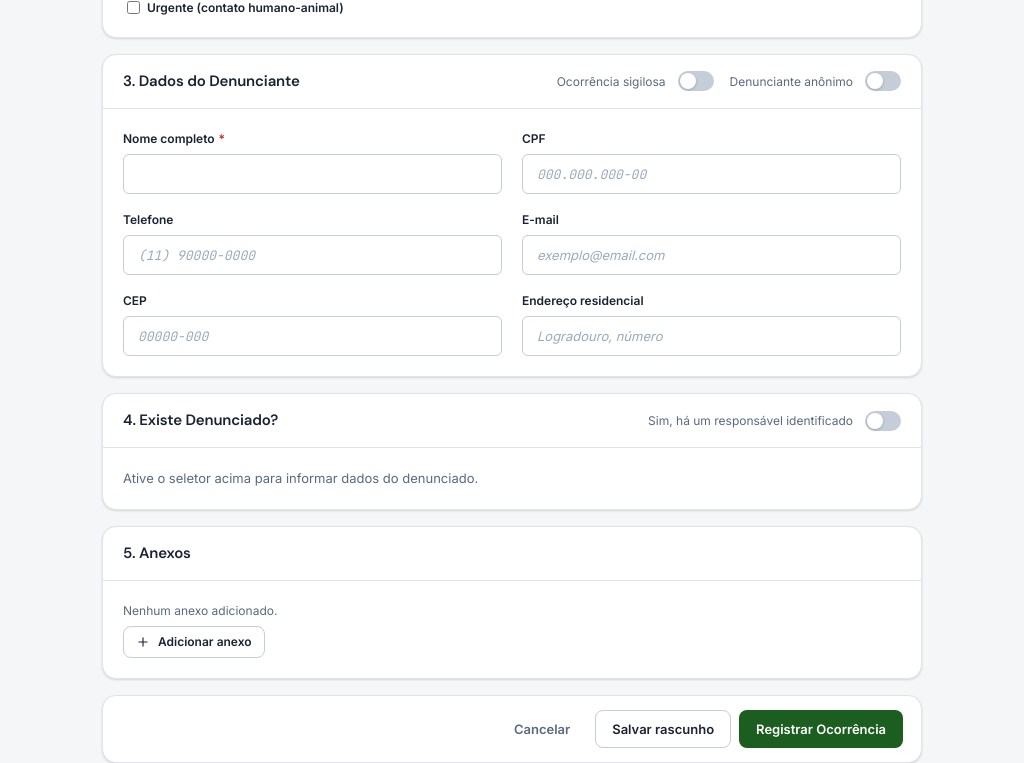
Test: OcorrenciaForm › bloqueia o envio sem endereço, bairro ou descrição
This screenshot has width=1024, height=763.
(page scrolled)
Step 1. Click the button "Registrar Ocorrência" → (821, 730), box [739,710,903,748]
(page scrolled)
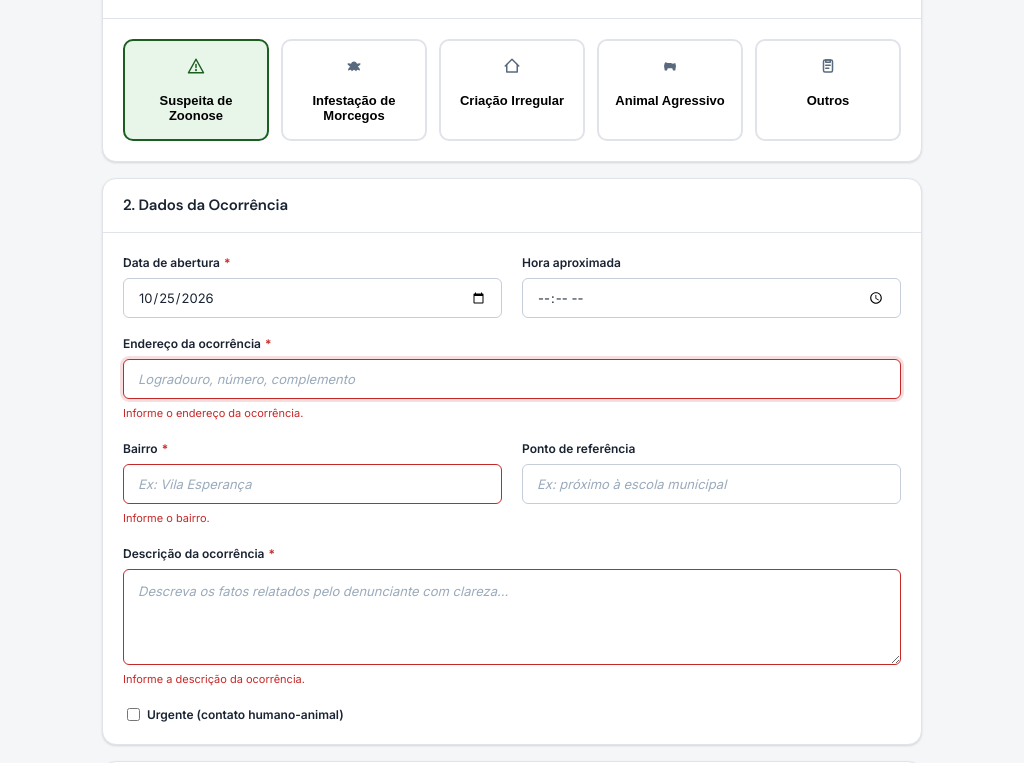
Now the text "Informe o endereço da ocorrência." is shown, box [123,406,303,420]
Now the text "Informe o bairro." is shown, box [123,511,210,525]
Now the text "Informe a descrição da ocorrência." is shown, box [123,672,305,686]
